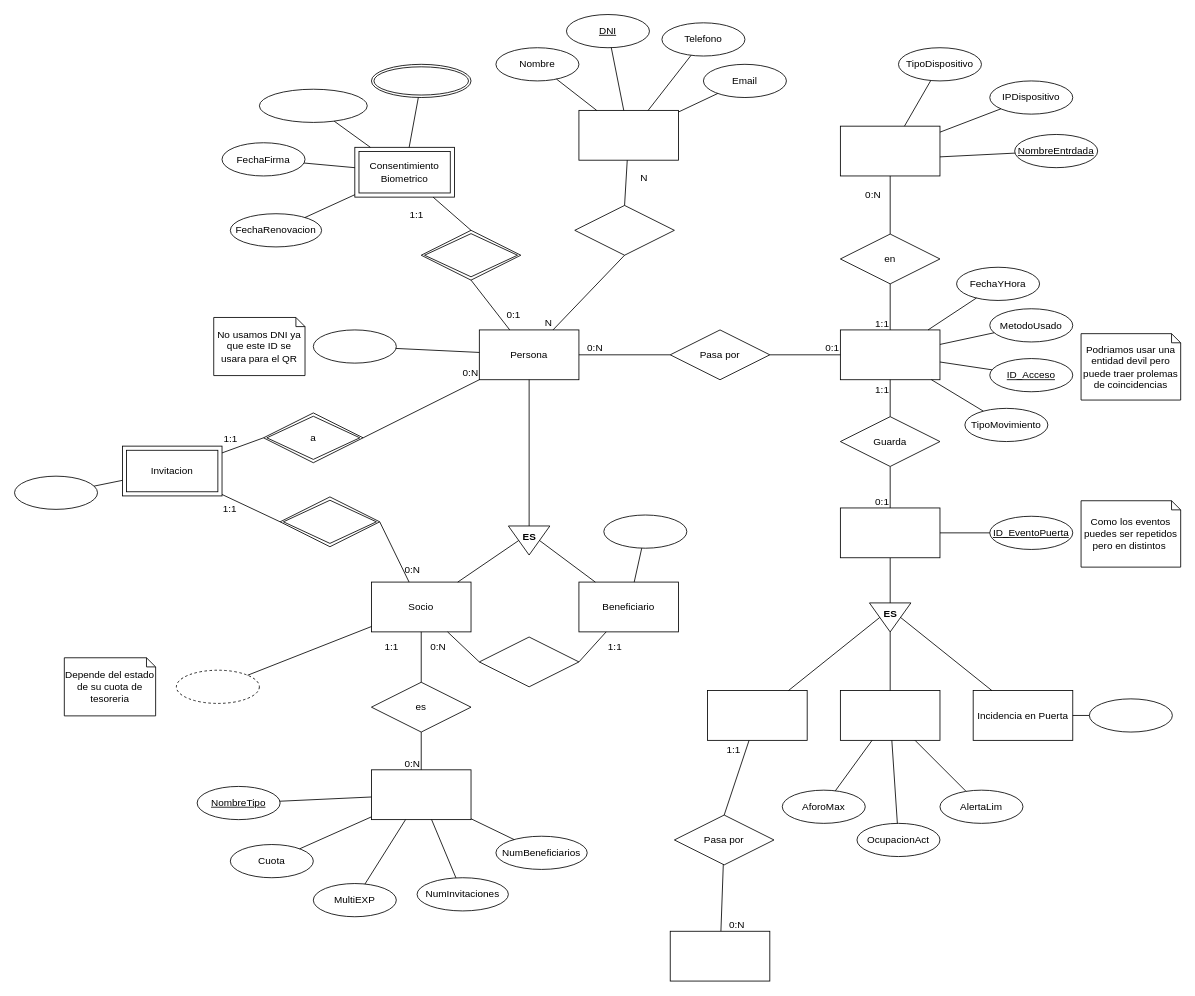
This 1195x996 diagram has some shape labels left out. Each missing label, with the centre of its shape:
Control Aforo: (x=890, y=715)
DatosBiometricos: (x=421, y=80)
Estado: (x=217, y=686)
EstadoConsentimiento: (x=313, y=105)
Evento Puerta: (x=890, y=532)
FechaValidez: (x=56, y=492)
Fichaje Trabajador: (x=757, y=715)
ID_Persona: (x=354, y=346)
manda: (x=329, y=521)
Motivo: (x=1130, y=715)
Parentesco: (x=645, y=531)
Punto de Acceso: (x=890, y=150)
Registro de Acceso: (x=890, y=354)
relacionada con: (x=528, y=661)
Requiere: (x=470, y=254)
Se registra por: (x=624, y=230)
Solicitud De Alta: (x=628, y=135)
Tipo De Socio: (x=421, y=794)
Trabajador <<EXTERNO>>: (x=719, y=955)
